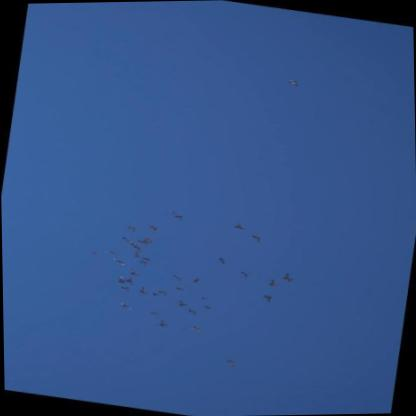bird: (279, 270, 295, 282), (137, 285, 152, 296), (265, 278, 281, 288), (184, 308, 200, 317), (170, 211, 185, 220), (156, 319, 169, 329), (284, 79, 300, 87), (213, 257, 227, 266), (174, 300, 188, 309), (260, 294, 272, 304), (102, 248, 117, 256), (223, 359, 236, 368), (116, 302, 130, 310), (128, 268, 140, 277), (125, 225, 138, 233), (112, 256, 125, 264), (188, 326, 200, 334), (148, 309, 160, 317), (233, 223, 244, 231), (147, 225, 158, 233), (169, 274, 181, 281), (141, 236, 155, 242), (113, 276, 125, 283), (250, 234, 260, 242), (191, 277, 201, 285), (136, 239, 149, 245), (238, 271, 249, 278), (173, 286, 185, 292), (156, 290, 168, 296), (137, 259, 147, 266), (124, 278, 134, 285), (118, 286, 128, 293), (121, 237, 131, 244), (140, 255, 151, 261), (132, 251, 140, 259), (132, 244, 140, 252), (200, 305, 210, 310), (150, 292, 160, 297), (200, 295, 208, 301), (91, 250, 97, 254)
